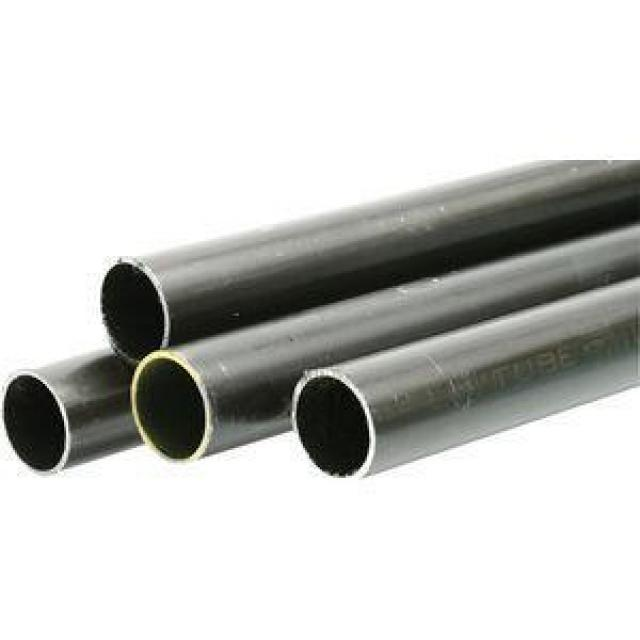pipe: (288, 365, 378, 485), (129, 348, 215, 468), (95, 255, 172, 364), (1, 364, 74, 477)
